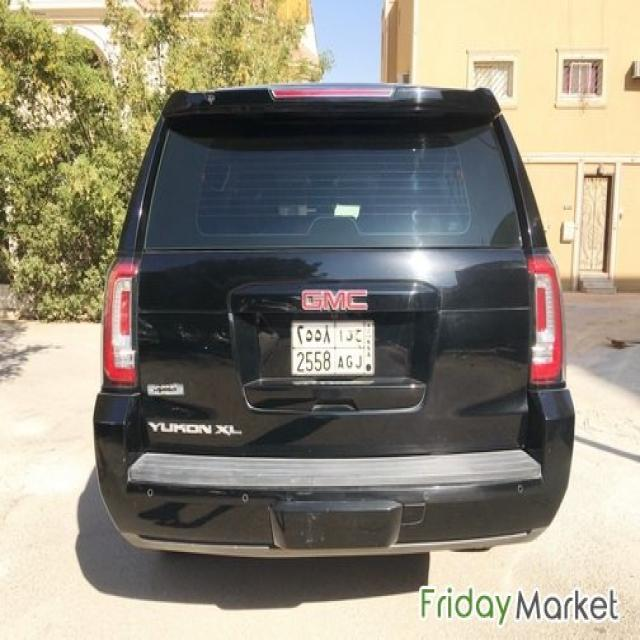license_plate: (290, 316, 377, 378)
